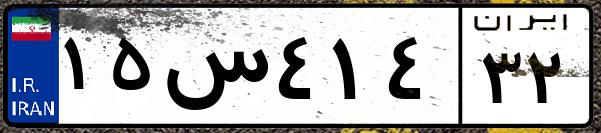1: (330, 28, 385, 110), (57, 26, 110, 100)
2: (525, 38, 570, 115)
3: (475, 38, 525, 113)
4: (270, 28, 330, 110), (385, 28, 445, 110)
5: (110, 28, 158, 98)
س: (158, 20, 270, 120)
